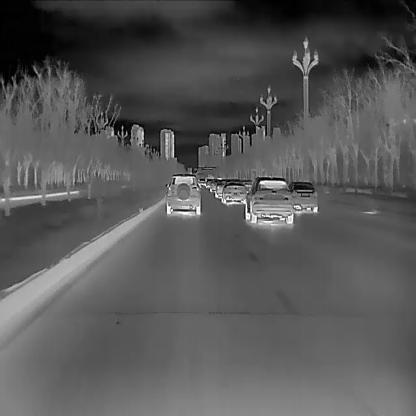car: (244, 174, 293, 224), (164, 173, 201, 215), (287, 180, 318, 212), (220, 178, 246, 203), (214, 179, 226, 197), (209, 177, 220, 192), (242, 179, 252, 193), (204, 177, 213, 188), (199, 177, 205, 186)
